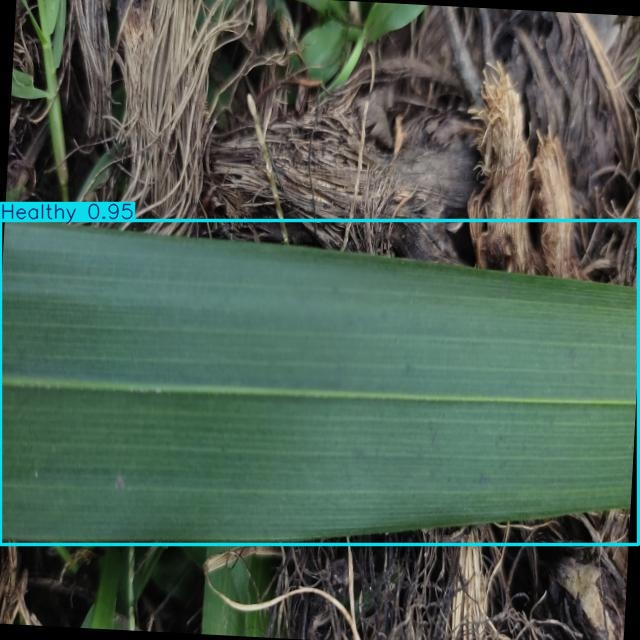Healthy: (0, 220, 638, 545)
